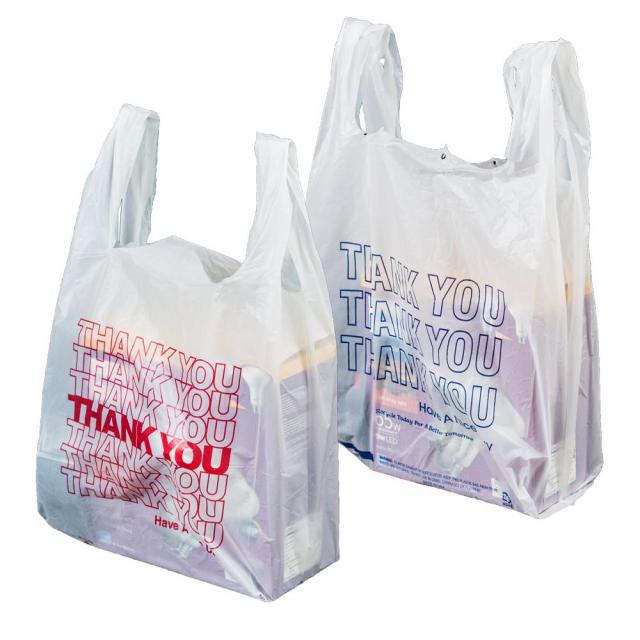plastic_bag: (77, 114, 330, 577)
